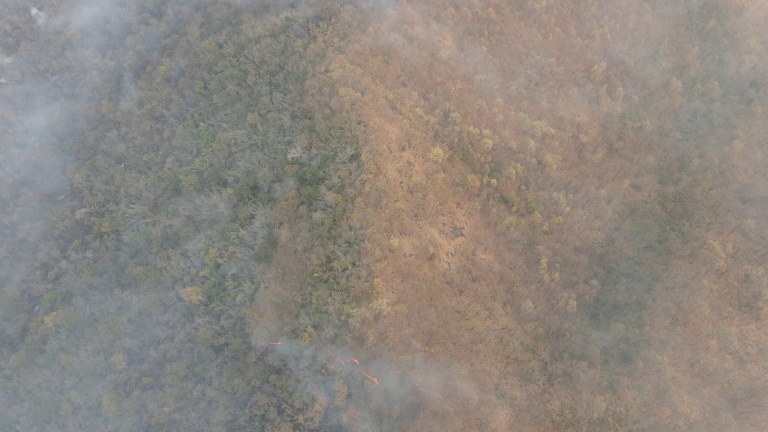fire: (262, 338, 381, 387), (389, 363, 442, 432)
smoke: (1, 1, 222, 428), (322, 1, 768, 100), (257, 322, 475, 432)
